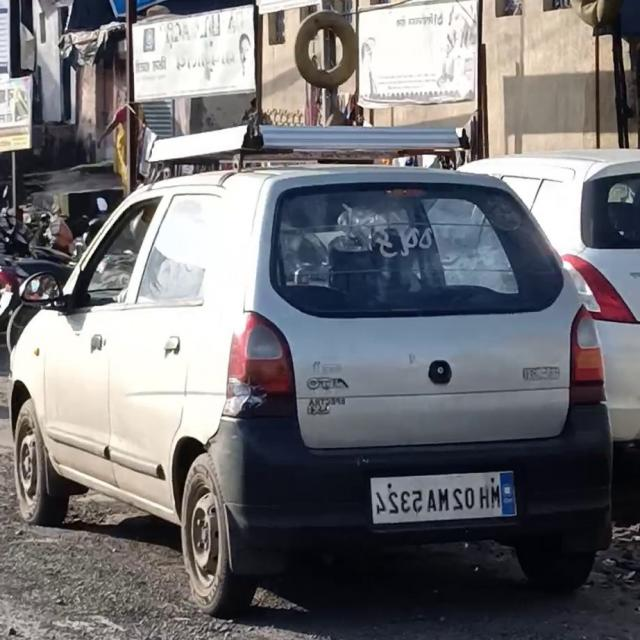license_plate: (367, 463, 522, 527)
